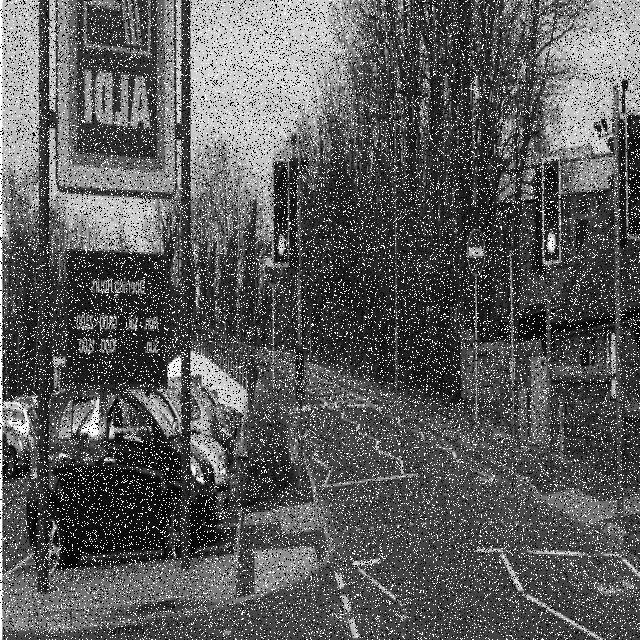no entry: (263, 236, 284, 285), (468, 227, 486, 276)
